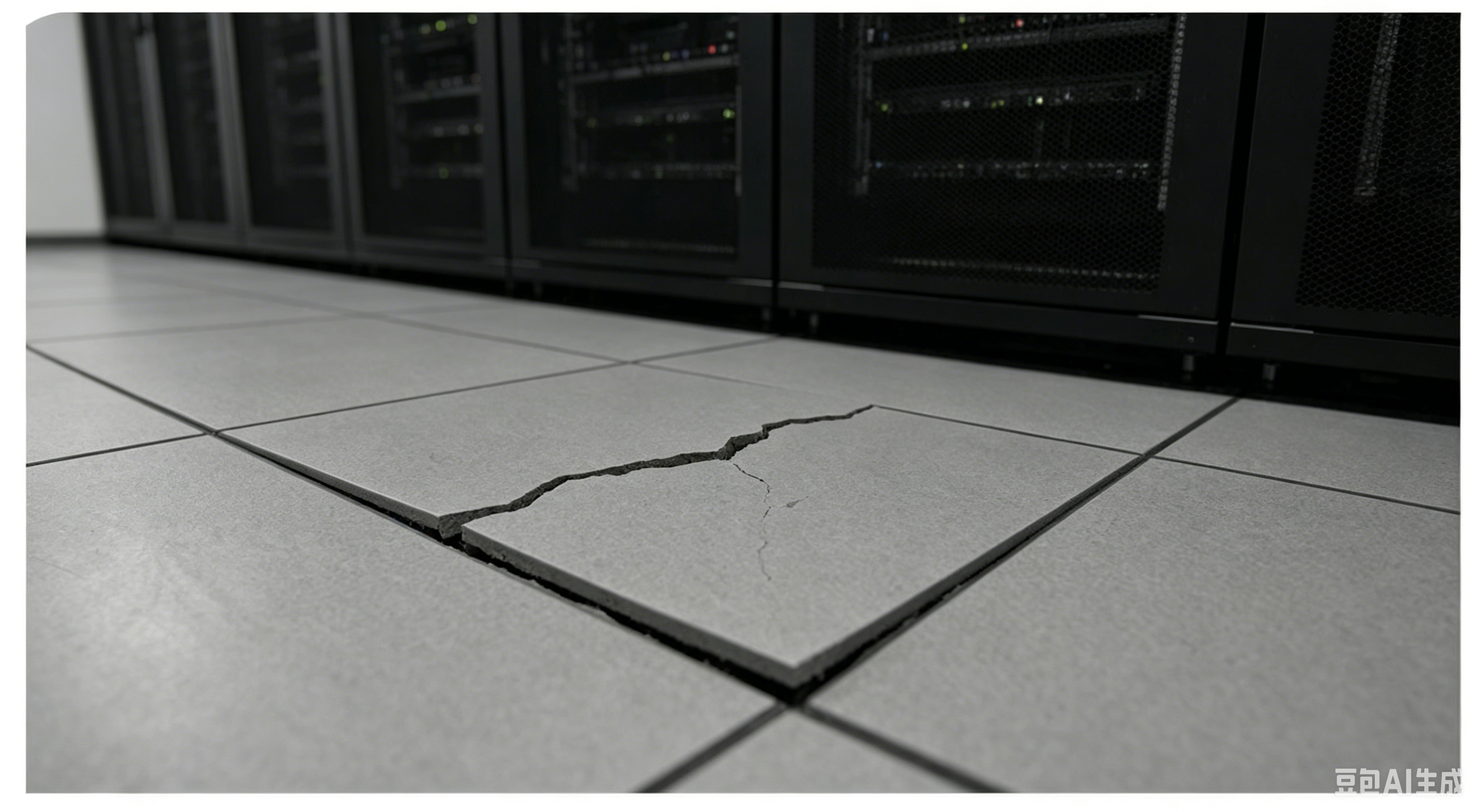floor_defect: (546, 569, 1015, 737), (424, 481, 645, 565), (271, 444, 421, 553), (696, 359, 892, 441), (518, 437, 799, 477), (962, 500, 1071, 569)
